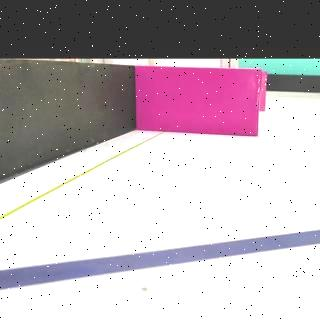xparking: (146, 70, 260, 136)
